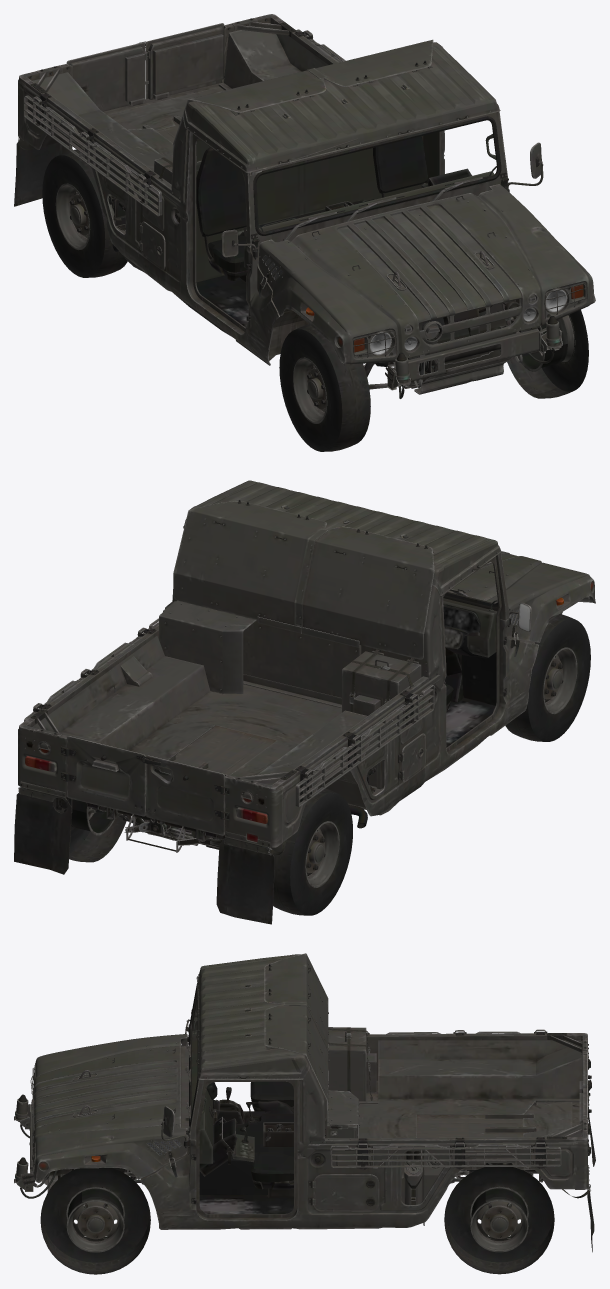
The model's file is toyota-type-93-1.glb.
3 views of the same model, one above another, from view 1: azimuth 30°, elevation 25°; view 2: azimuth 150°, elevation 25°; view 3: azimuth 270°, elevation 25° (orthographic). The views are drawn at different scales.
Visible parts, largest first — view 1: chasis, wheel2, wheel4, wheel1; view 2: chasis, wheel4, wheel2, wheel3; view 3: chasis, wheel3, wheel1.
Boxes of the visible parts, box(x1,y1,x2,y2) form: chasis: box(14, 14, 595, 398); wheel2: box(279, 324, 370, 451); wheel4: box(42, 149, 127, 277); wheel1: box(507, 309, 588, 398); chasis: box(14, 480, 595, 924); wheel4: box(270, 787, 352, 915); wheel2: box(505, 614, 590, 741); wheel3: box(53, 799, 126, 862); chasis: box(14, 953, 595, 1252); wheel3: box(444, 1167, 554, 1274); wheel1: box(40, 1168, 150, 1274).
Bounding box in the file's own units: 2.57 × 2.09 × 4.95.
Materials: 4 (4 with a texture image).
